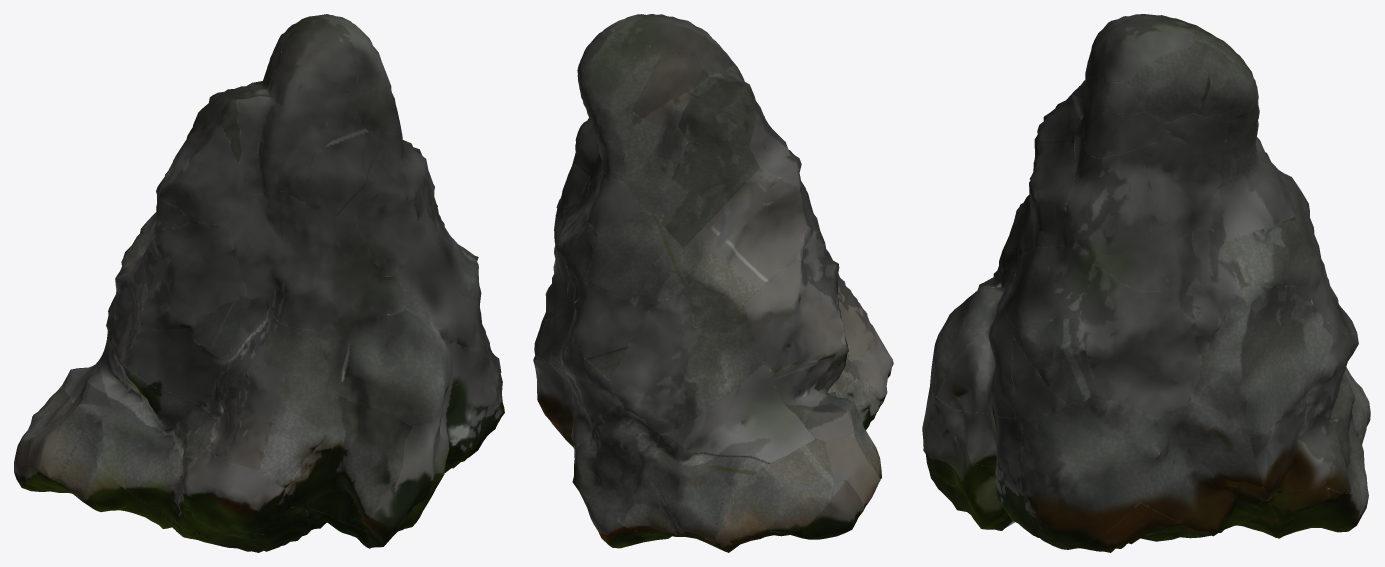
Rendered from generic_island_3.fbx.
The picture shows the model from 3 angles, left to right: view 1: azimuth 30°, elevation 25°; view 2: azimuth 150°, elevation 25°; view 3: azimuth 270°, elevation 25°; orthographic projection. The views are drawn at different scales.
Parts seen in each view (by area): view 1: rock.003_cell.008, rock.003_cell.098, rock.003_cell.130, rock.003_cell.148, rock.003_cell.133, rock.003_cell.063, rock.003_cell.026, rock.003_cell.157, rock.003_cell.139, rock.003_cell.087, rock.003_cell.065, rock.003_cell.163 (+28 smaller); view 2: rock.003_cell.108, rock.003_cell.036, rock.003_cell.061, rock.003_cell.111, rock.003_cell.119, rock.003_cell.020, rock.003_cell.151, rock.003_cell.067, rock.003_cell.170, rock.003_cell.012, rock.003_cell.059, rock.003_cell.145 (+30 smaller); view 3: rock.003_cell.022, rock.003_cell.010, rock.003_cell.046, rock.003_cell.028, rock.003_cell.125, rock.003_cell.038, rock.003_cell.161, rock.003_cell.057, rock.003_cell.181, rock.003_cell.030, rock.003_cell.075, rock.003_cell.121 (+27 smaller).
Part boxes in pixels (box(x1,y1,x2,y2)): rock.003_cell.008: box(227, 191, 381, 334); rock.003_cell.098: box(321, 276, 445, 426); rock.003_cell.130: box(236, 63, 357, 196); rock.003_cell.148: box(286, 396, 412, 519); rock.003_cell.133: box(140, 221, 245, 329); rock.003_cell.063: box(65, 363, 218, 457); rock.003_cell.026: box(183, 449, 291, 535); rock.003_cell.157: box(157, 124, 247, 225); rock.003_cell.139: box(355, 145, 434, 276); rock.003_cell.087: box(284, 116, 380, 220); rock.003_cell.065: box(124, 329, 228, 421); rock.003_cell.163: box(259, 374, 339, 487); rock.003_cell.108: box(683, 168, 806, 304); rock.003_cell.036: box(669, 364, 814, 488); rock.003_cell.061: box(610, 292, 699, 434); rock.003_cell.111: box(743, 259, 843, 370); rock.003_cell.119: box(583, 211, 691, 309); rock.003_cell.020: box(653, 143, 759, 248); rock.003_cell.151: box(734, 439, 834, 532); rock.003_cell.067: box(572, 403, 659, 508); rock.003_cell.170: box(647, 435, 733, 547); rock.003_cell.012: box(674, 322, 763, 429); rock.003_cell.059: box(577, 31, 661, 110); rock.003_cell.145: box(678, 69, 759, 146); rock.003_cell.022: box(1020, 395, 1159, 545); rock.003_cell.010: box(1080, 264, 1202, 419); rock.003_cell.046: box(1140, 401, 1263, 536); rock.003_cell.028: box(1193, 286, 1312, 413); rock.003_cell.125: box(1067, 136, 1155, 259); rock.003_cell.038: box(1146, 129, 1222, 246); rock.003_cell.161: box(1226, 308, 1335, 436); rock.003_cell.057: box(1156, 227, 1240, 356); rock.003_cell.181: box(922, 390, 1008, 529); rock.003_cell.030: box(1249, 399, 1334, 500); rock.003_cell.075: box(1003, 244, 1093, 326); rock.003_cell.121: box(1087, 14, 1195, 82).
Size of the model in its own units: 1018 by 1173 by 883.
Materials: 1 (1 with a texture image).
